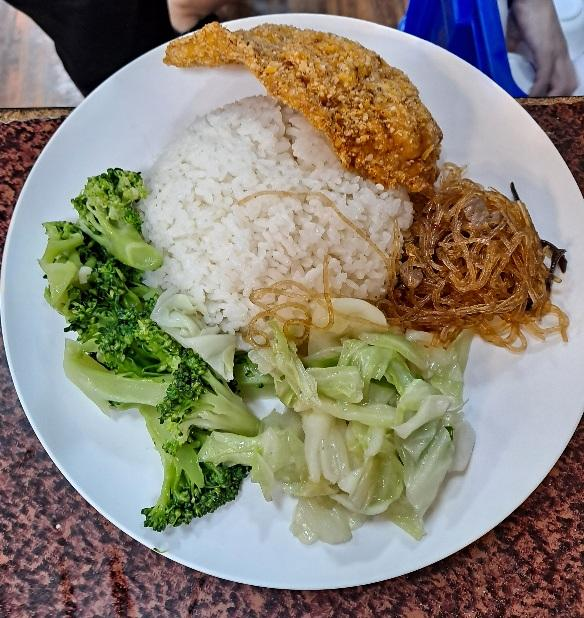big fried chicken leg: (9, 10, 584, 615)
big herbal chicken leg: (142, 86, 417, 335)
braised fish fillet: (32, 150, 248, 519), (248, 316, 479, 544), (388, 156, 559, 349)
braised pork: (160, 19, 446, 189)
